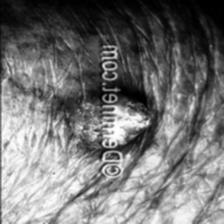Potentially Malignant Skin Tumors: (66, 92, 150, 146)
